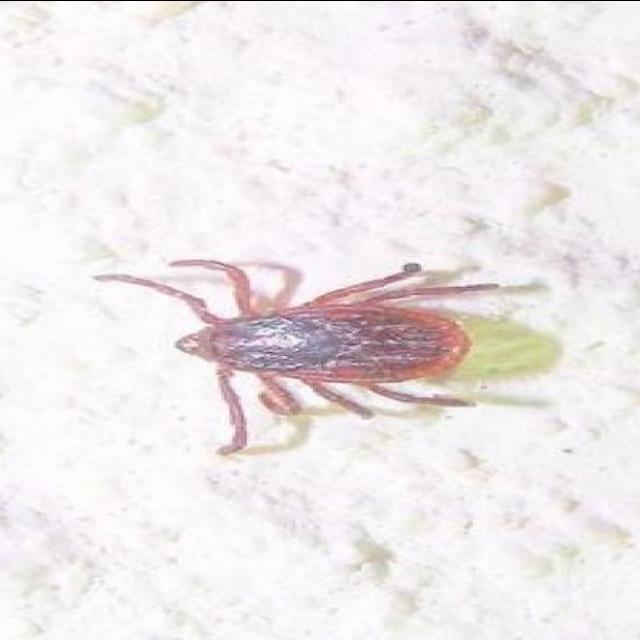Rhipicephalus Sanguineus-F: (92, 259, 499, 456)
